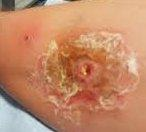Spider: (39, 27, 141, 118)
